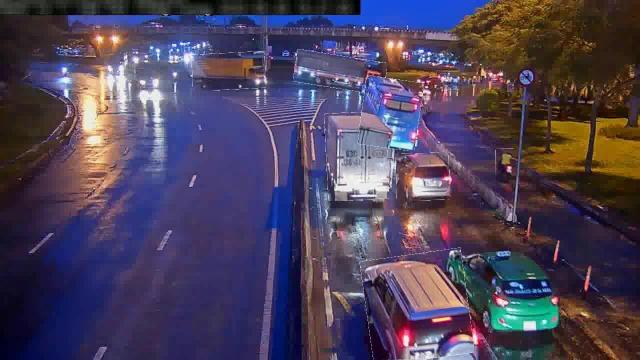Bike: (496, 148, 514, 180)
Bus: (360, 78, 422, 150)
Car: (363, 250, 471, 360), (396, 153, 450, 201)
Truck: (326, 112, 388, 200), (294, 52, 386, 92), (192, 52, 266, 90)
